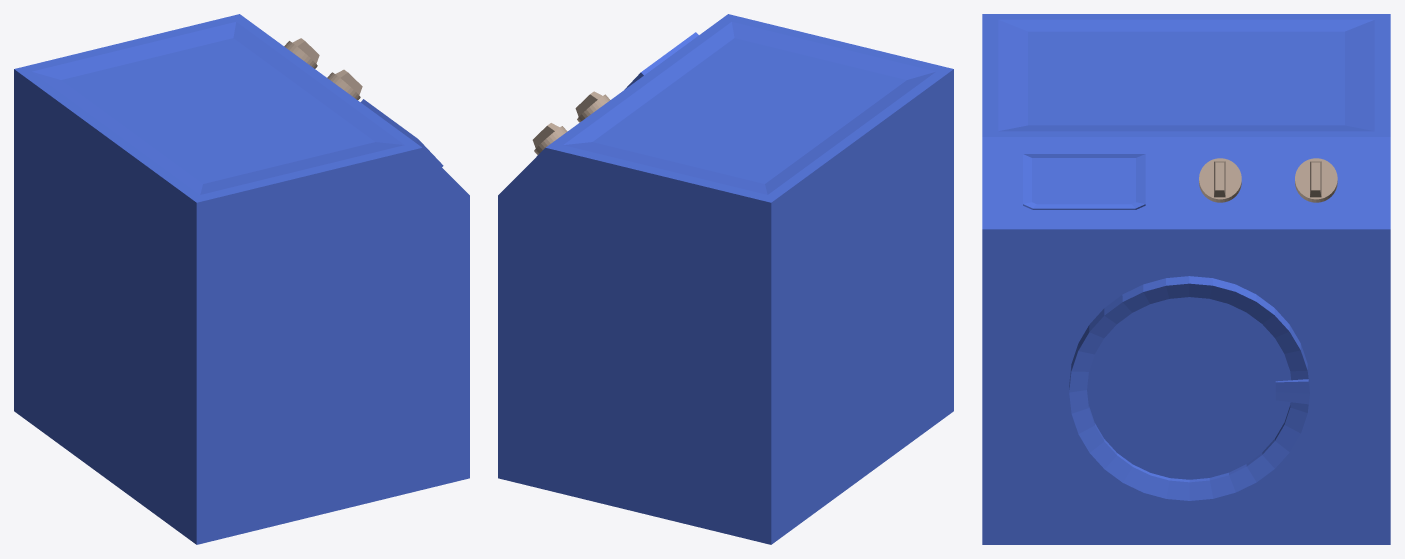
The model's file is washingmachine.fbx.
The picture shows the model from 3 angles, left to right: view 1: azimuth 30°, elevation 25°; view 2: azimuth 150°, elevation 25°; view 3: azimuth 270°, elevation 25°; orthographic projection. The views are drawn at different scales.
Visible parts, largest first — view 1: machine, dials; view 2: machine, dials; view 3: machine, door, thing for detergent, dials, handle.
Boxes of the visible parts, x1,y1,x2,y2 form: machine: (14, 14, 469, 544); dials: (284, 38, 362, 99); machine: (498, 14, 953, 544); dials: (532, 91, 609, 155); machine: (982, 14, 1390, 544); door: (1069, 276, 1309, 500); thing for detergent: (1023, 154, 1145, 209); dials: (1199, 158, 1337, 202); handle: (1275, 379, 1309, 404).
Bounding box in the file's own units: 212 × 239 × 232.
